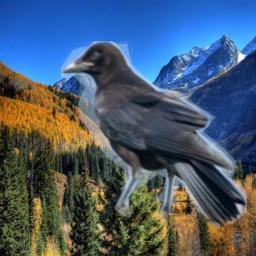Crow: (61, 41, 247, 225)
